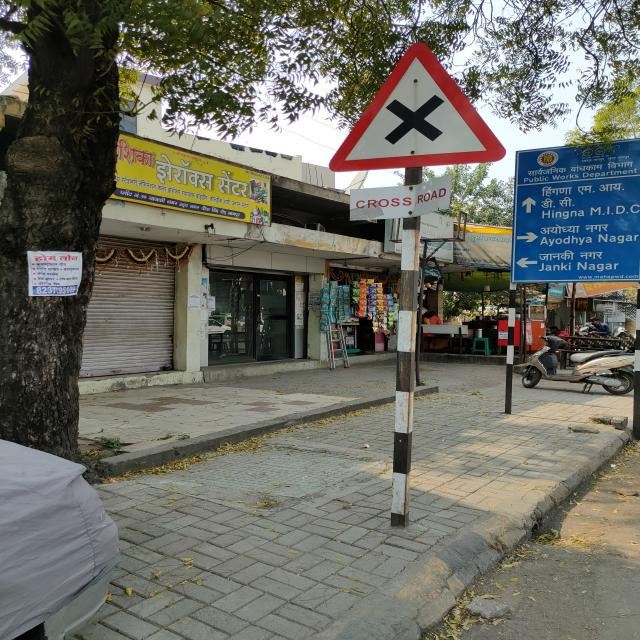CROSS_ROAD: (328, 40, 506, 176)
